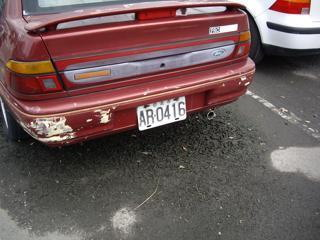plate: (133, 96, 188, 128)
